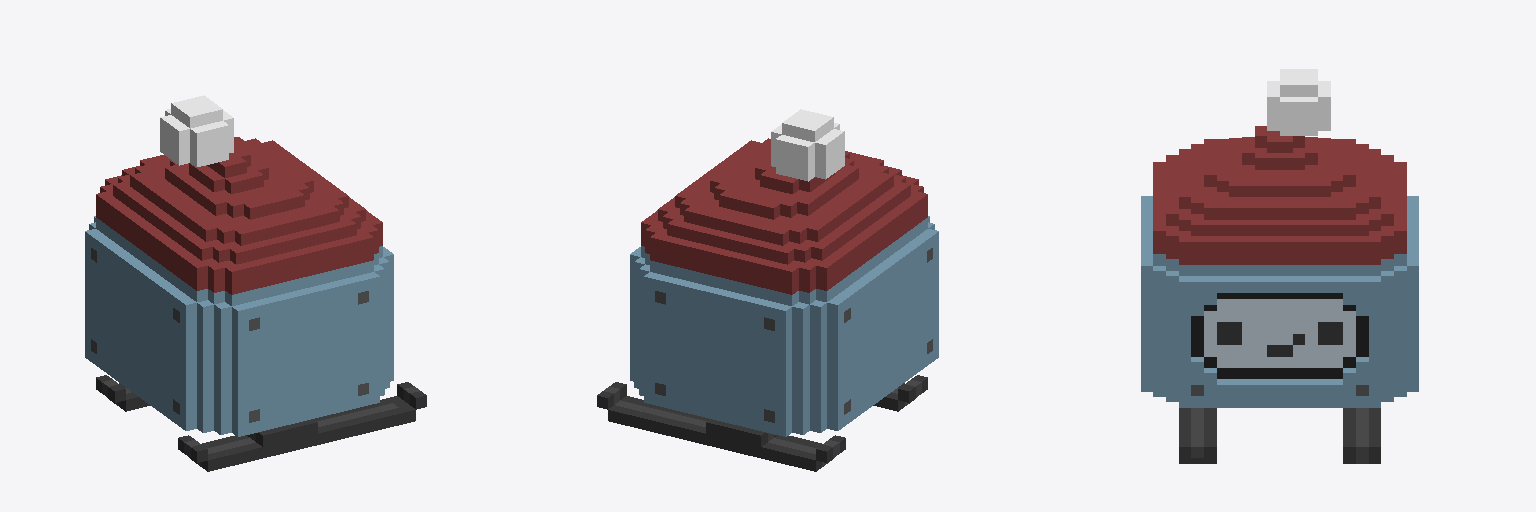
The picture shows the model from 3 angles: view 1: azimuth 30°, elevation 25°; view 2: azimuth 150°, elevation 25°; view 3: azimuth 270°, elevation 25°; orthographic projection.
Visible parts, largest first — view 1: object 1; view 2: object 1; view 3: object 1.
Part boxes in pixels (left/top/right/bottom): object 1: left=85, top=95, right=426, bottom=471; object 1: left=597, top=109, right=938, bottom=471; object 1: left=1141, top=69, right=1418, bottom=463.
Size of the model in its own units: 2.2 by 2.7 by 2.2.
Materials: 1 (1 with a texture image).